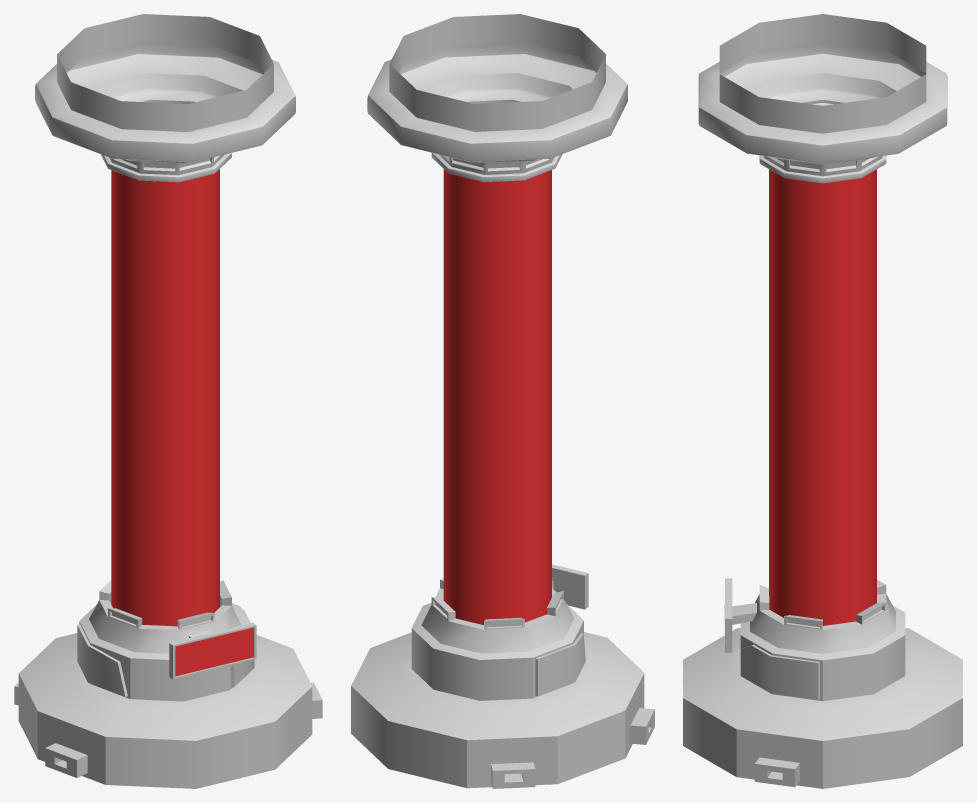
File: CapsulaGrandhab2e.fbx
3 views of the same model, side by side, from view 1: azimuth 30°, elevation 25°; view 2: azimuth 150°, elevation 25°; view 3: azimuth 270°, elevation 25° (orthographic).
Visible parts, largest first — view 1: Tubocentral_001; view 2: Tubocentral_001; view 3: Tubocentral_001.
Part boxes in pixels (bbox=[...]): Tubocentral_001: bbox=[14, 14, 322, 788]; Tubocentral_001: bbox=[351, 14, 654, 788]; Tubocentral_001: bbox=[683, 14, 962, 788].
Bounding box in the file's own units: 272 × 647 × 246.
